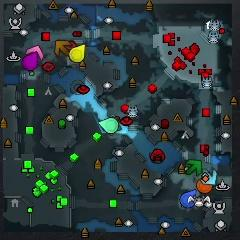p1: (180, 189, 198, 209)
p2: (97, 117, 119, 135)
p3: (22, 52, 39, 69)
p4: (68, 44, 86, 62)
p5: (196, 178, 213, 192)
x1: (27, 46, 44, 59)
x3: (201, 169, 218, 183)
x4: (186, 160, 203, 174)
x5: (55, 41, 72, 56)
